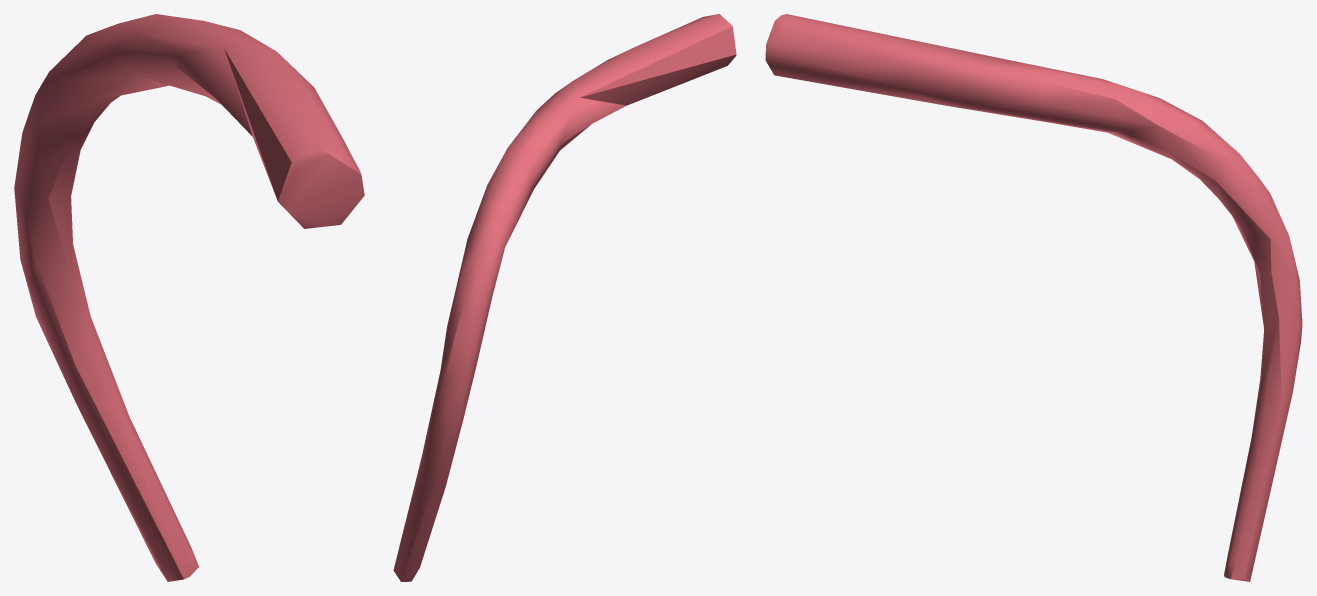
The model's file is fma68706_fj2994.glb.
3 views of the same model, side by side, from view 1: azimuth 30°, elevation 25°; view 2: azimuth 150°, elevation 25°; view 3: azimuth 270°, elevation 25° (orthographic). The views are drawn at different scales.
Visible parts, largest first — view 1: FMA68706_FJ2994; view 2: FMA68706_FJ2994; view 3: FMA68706_FJ2994.
Boxes of the visible parts, <box> form: FMA68706_FJ2994: <box>14,14,364,581</box>; FMA68706_FJ2994: <box>393,14,736,581</box>; FMA68706_FJ2994: <box>765,14,1302,581</box>.
Size of the model in its own units: 0.0133 by 0.0394 by 0.0379.
